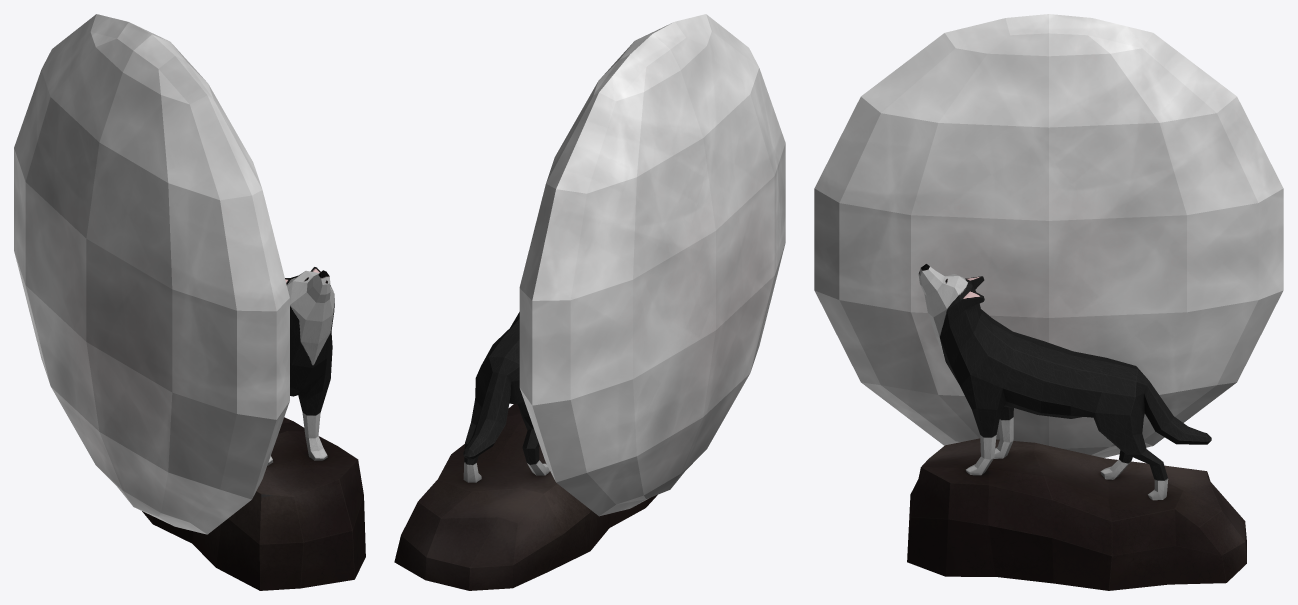
Rendered from Howling_Wolf.glb.
3 renders of one model, left to right at view 1: azimuth 30°, elevation 25°; view 2: azimuth 150°, elevation 25°; view 3: azimuth 270°, elevation 25°, orthographic. The views are drawn at different scales.
Parts seen in each view (by area): view 1: Node; view 2: Node; view 3: Node.
Part boxes in pixels (x1,y1,x2,y2): Node: [14, 14, 365, 590]; Node: [394, 14, 785, 590]; Node: [814, 14, 1283, 590].
Size of the model in its own units: 9.01 by 17.56 by 15.24.
Materials: 1 (1 with a texture image).
